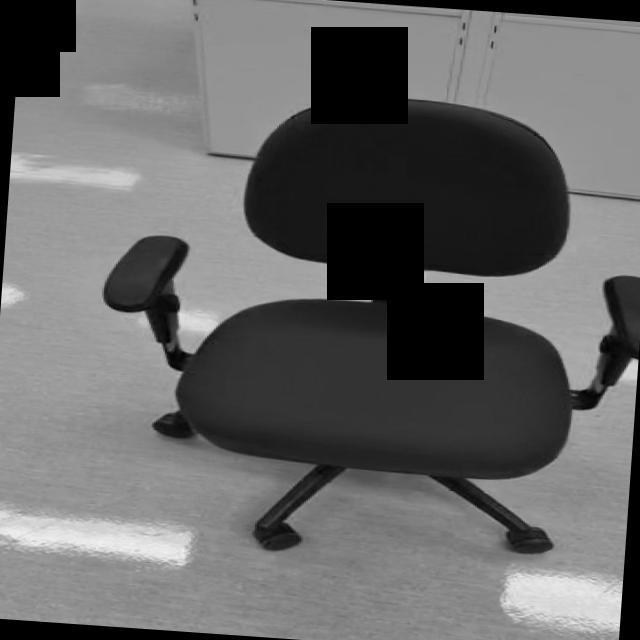chair: (82, 77, 640, 574)
